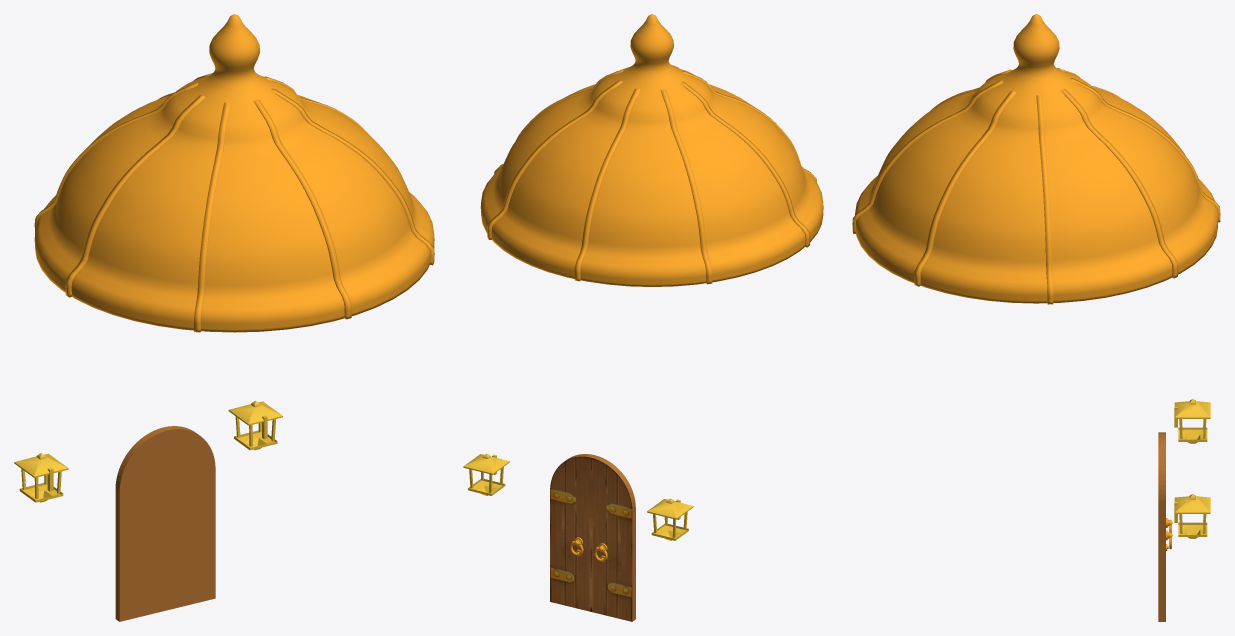
File: HaloDomeHouse_06_deco.glb
3 views of the same model, side by side, from view 1: azimuth 30°, elevation 25°; view 2: azimuth 150°, elevation 25°; view 3: azimuth 270°, elevation 25° (orthographic). The views are drawn at different scales.
Parts seen in each view (by area): view 1: HaloDomeHouse_06_Dome, HaloDomeHouse_06_Leaf0, HaloDomeHouse_06_Leaf1, HaloDomeHouse_06_DomeRibs, HaloDomeHouse_06_Lantern0, HaloDomeHouse_06_Lantern1; view 2: HaloDomeHouse_06_Dome, HaloDomeHouse_06_Leaf0, HaloDomeHouse_06_Leaf1, HaloDomeHouse_06_DomeRibs, HaloDomeHouse_06_Lantern1, HaloDomeHouse_06_Lantern0; view 3: HaloDomeHouse_06_Dome, HaloDomeHouse_06_DomeRibs, HaloDomeHouse_06_Leaf1, HaloDomeHouse_06_Lantern0, HaloDomeHouse_06_Lantern1.
Part boxes in pixels (x1,y1,x2,y2): HaloDomeHouse_06_Dome: (34,14,434,332); HaloDomeHouse_06_Leaf0: (115,427,167,621); HaloDomeHouse_06_Leaf1: (164,426,215,609); HaloDomeHouse_06_DomeRibs: (34,73,434,332); HaloDomeHouse_06_Lantern0: (14,453,68,502); HaloDomeHouse_06_Lantern1: (228,400,282,450); HaloDomeHouse_06_Dome: (480,14,823,286); HaloDomeHouse_06_Leaf0: (591,455,635,621); HaloDomeHouse_06_Leaf1: (550,454,594,611); HaloDomeHouse_06_DomeRibs: (487,64,816,284); HaloDomeHouse_06_Lantern1: (463,453,509,495); HaloDomeHouse_06_Lantern0: (647,498,693,540); HaloDomeHouse_06_Dome: (855,14,1218,303); HaloDomeHouse_06_DomeRibs: (852,68,1220,304); HaloDomeHouse_06_Leaf1: (1158,437,1165,621); HaloDomeHouse_06_Lantern0: (1174,399,1210,443); HaloDomeHouse_06_Lantern1: (1174,494,1210,538).
Bounding box in the file's own units: 15.71 × 27.62 × 15.71.
4 materials, 1 textured.
